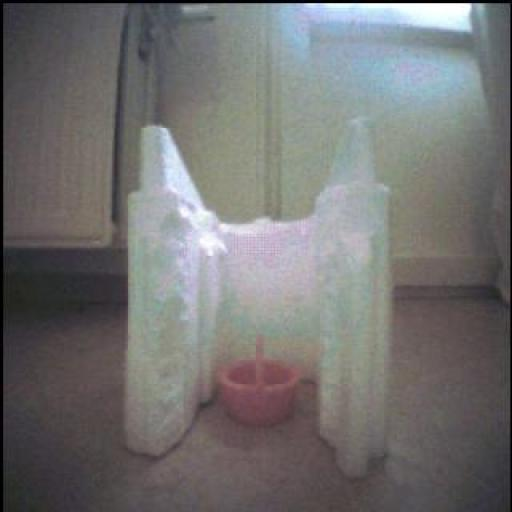Basket: (212, 334, 304, 427)
